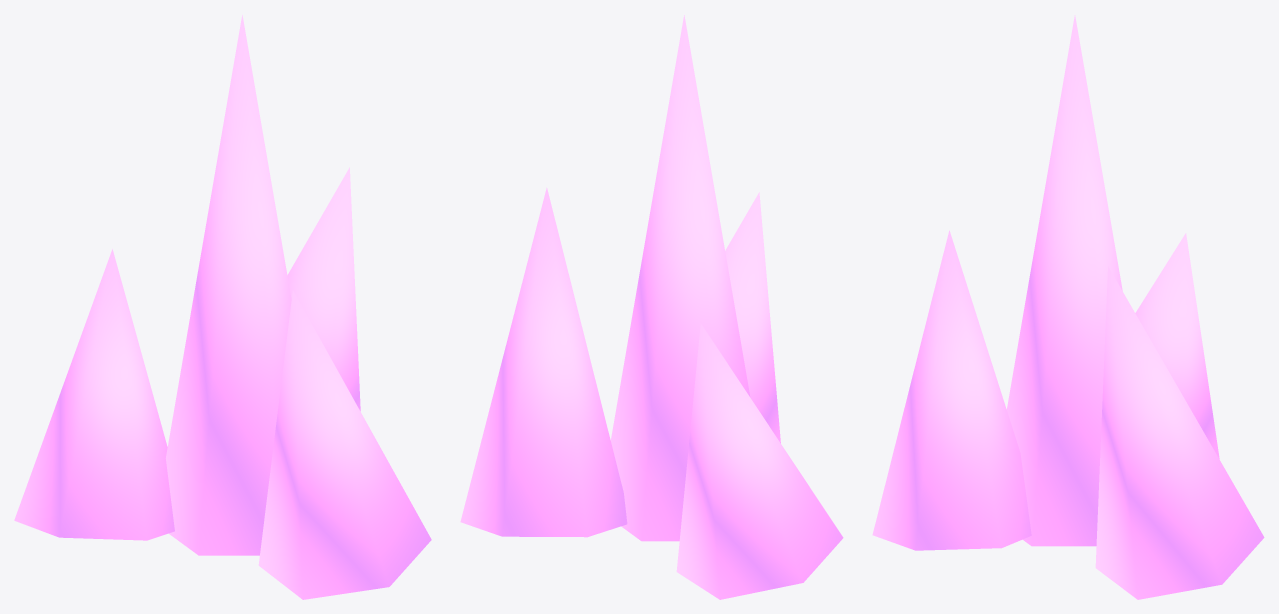
The model's file is crystal.glb.
3 views of the same model, side by side, from view 1: azimuth 30°, elevation 25°; view 2: azimuth 150°, elevation 25°; view 3: azimuth 270°, elevation 25° (orthographic). The views are drawn at different scales.
Visible parts, largest first — view 1: Shard, Shard.003, Shard.002, Shard.001; view 2: Shard, Shard.001, Shard.002, Shard.003; view 3: Shard, Shard.001, Shard.003, Shard.002.
Part boxes in pixels (<box>): Shard: <box>165,15,291,555</box>; Shard.003: <box>258,290,431,599</box>; Shard.002: <box>14,249,174,540</box>; Shard.001: <box>287,167,360,411</box>; Shard: <box>610,15,750,541</box>; Shard.001: <box>460,187,627,537</box>; Shard.002: <box>676,323,843,599</box>; Shard.003: <box>725,192,780,443</box>; Shard: <box>1006,15,1122,546</box>; Shard.001: <box>1095,266,1264,599</box>; Shard.003: <box>872,230,1031,550</box>; Shard.002: <box>1135,233,1219,458</box>.
Bounding box in the file's own units: 1.09 × 1.64 × 1.14.
